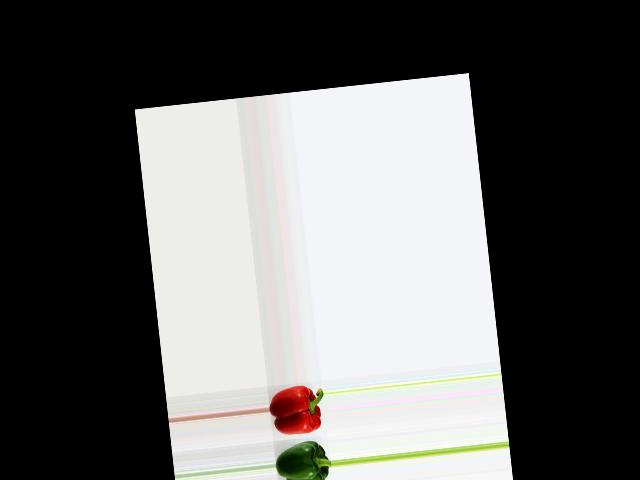bell_pepper: (275, 437, 332, 480)
